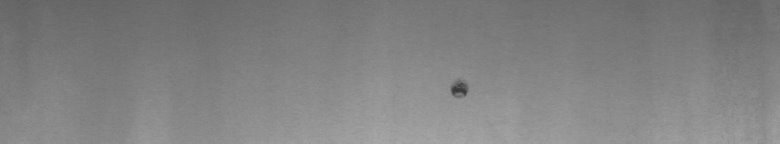fi: (445, 72, 472, 104)
